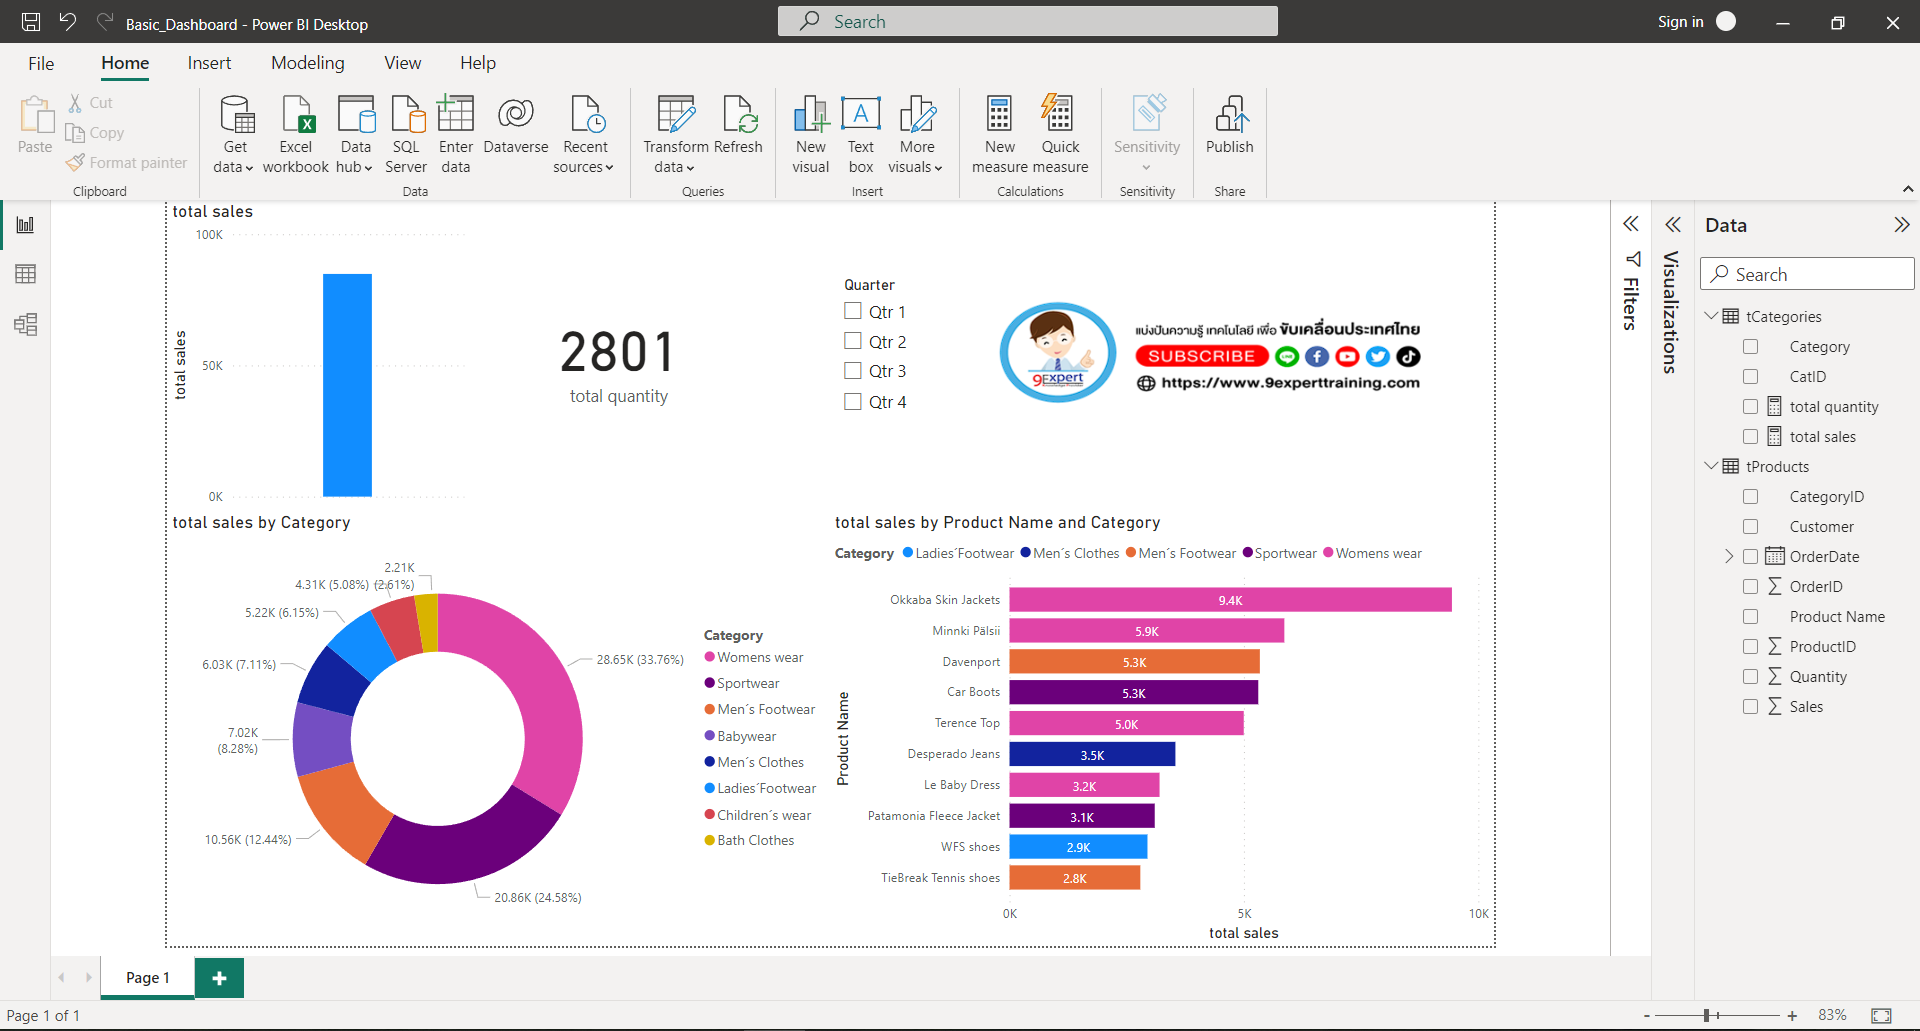

What the dashboard file says about the page in this screenshot:
{"tool":"powerbi","page":{"name":"Page 1","canvas":[1280,720],"ordinal":0},"visuals":[{"type":"columnChart","fields":{"Y":["tCategories.total sales"]},"box":[0,0,291.9,300.3],"z":0},{"type":"card","fields":{"Values":["tCategories.total quantity"]},"box":[291.9,0,288.2,300.3],"z":1000},{"type":"donutChart","fields":{"Y":["tCategories.total sales"],"Category":["tCategories.Category"]},"box":[0,300.5,640.8,419.9],"z":2000},{"type":"slicer","fields":{"Values":["tProducts.OrderDate.Variation.Date Hierarchy.Quarter"]},"box":[640.8,68.6,118,168.8],"z":3000},{"type":"barChart","fields":{"Category":["tProducts.Product Name"],"Y":["tCategories.total sales"],"Series":["tCategories.Category"]},"box":[639.5,300.5,640.8,419.9],"z":4000},{"type":"image","box":[759,69,521,169],"z":5000}]}

Visuals, with their boxes on the page's 1280x720 design canvas (x1, y1, x2, y2). These are canvas units, not pixel positions in the 1920x1031 screenshot, which may show the page scaled, cropped or inside an application window:
columnChart - tCategories.total sales: <box>0,0,292,300</box>
card - tCategories.total quantity: <box>292,0,580,300</box>
donutChart - tCategories.total sales x tCategories.Category: <box>0,300,641,720</box>
slicer - tProducts.OrderDate.Variation.Date Hierarchy.Quarter: <box>641,69,759,237</box>
barChart - tProducts.Product Name x tCategories.total sales: <box>640,300,1280,720</box>
image: <box>759,69,1280,238</box>
